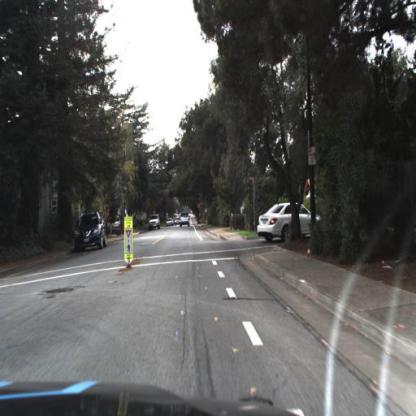car: (257, 202, 323, 245), (74, 211, 109, 255), (179, 210, 193, 228), (149, 213, 162, 231)
